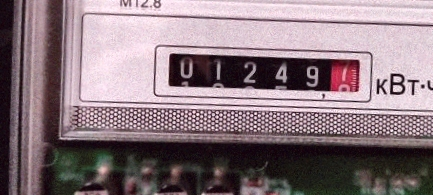0: (177, 53, 195, 80)
1: (209, 54, 224, 81)
2: (239, 59, 257, 85)
4: (272, 58, 289, 84)
7: (336, 56, 352, 83)
9: (301, 62, 319, 88)
screen: (149, 32, 376, 116)
